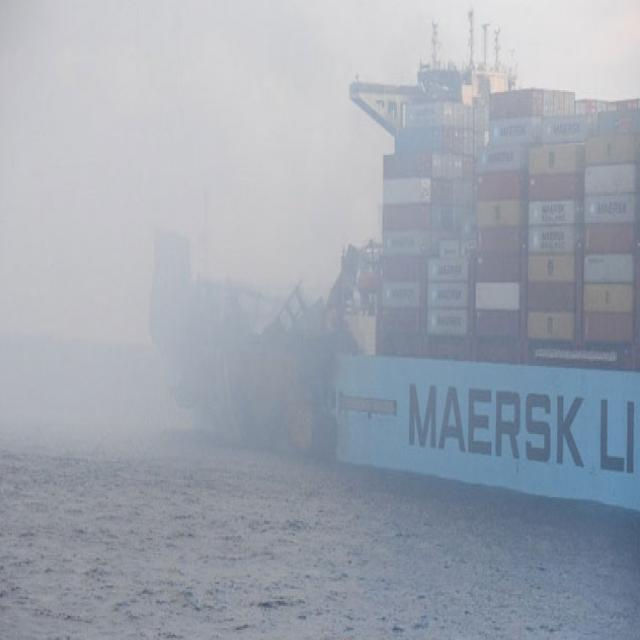cargoship: (257, 34, 640, 509)
